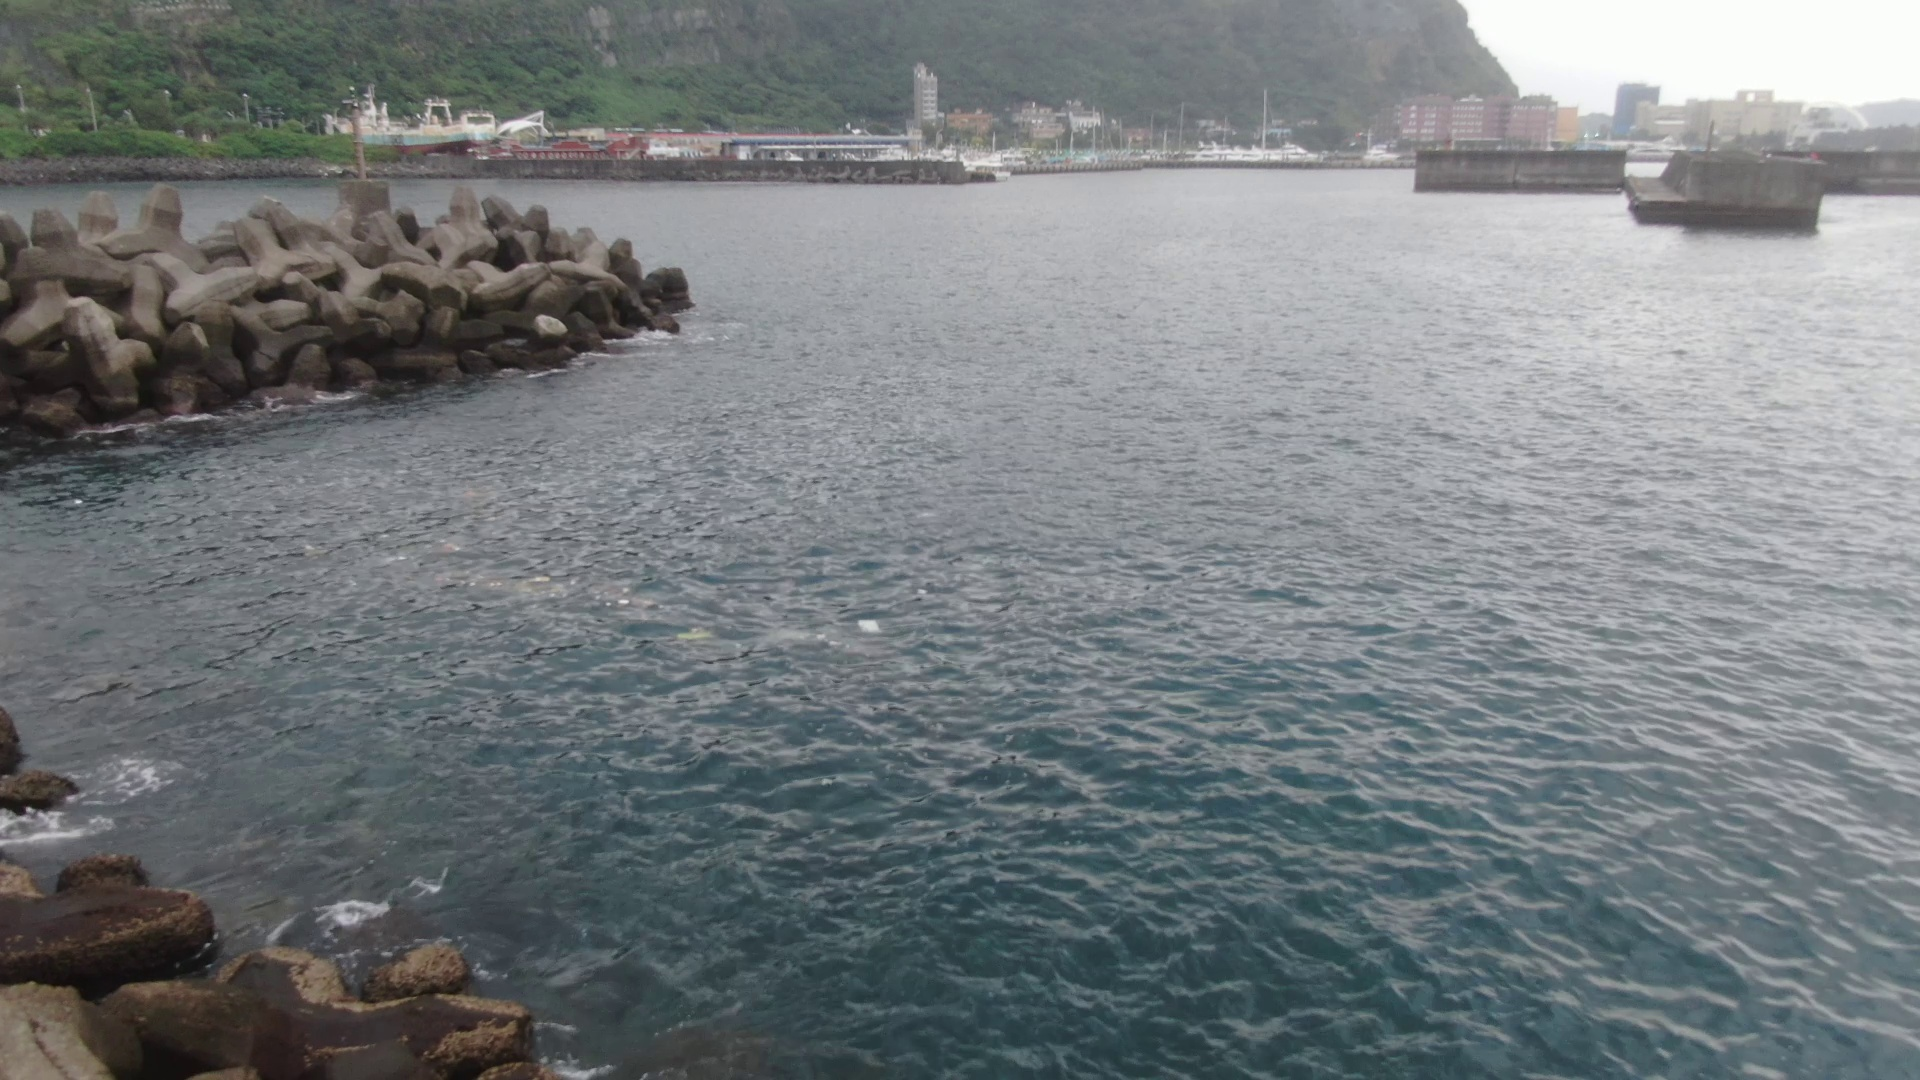garbage: (858, 611, 889, 642)
